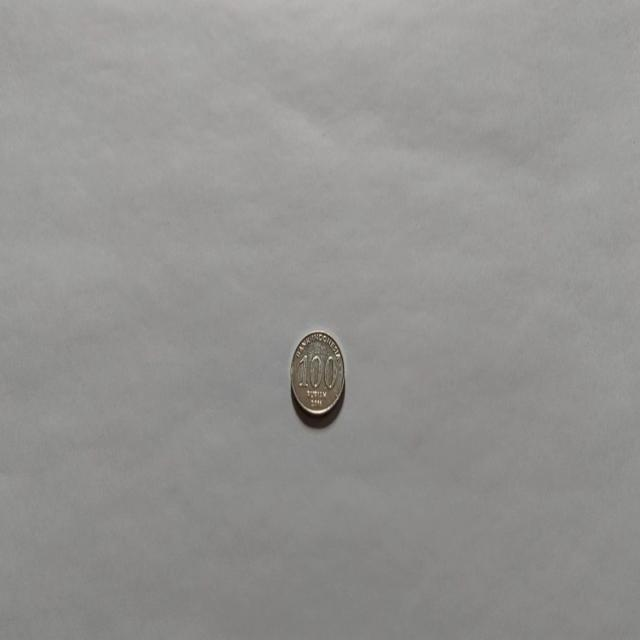seratus rupiah: (289, 328, 345, 419)
